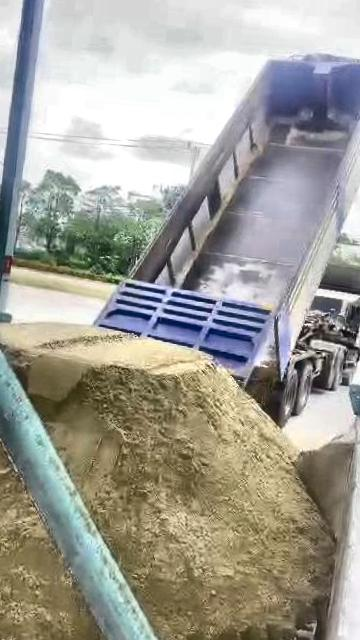sand: (0, 323, 332, 640), (0, 391, 107, 640), (296, 431, 354, 541)
